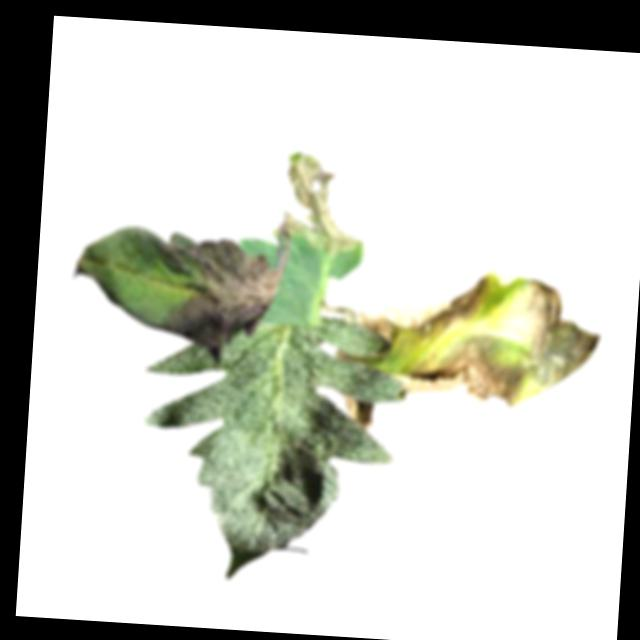Late_blight: (386, 256, 606, 414), (127, 231, 280, 364), (279, 151, 366, 257), (323, 298, 393, 342), (340, 393, 375, 431)
healthy: (131, 309, 410, 589)
